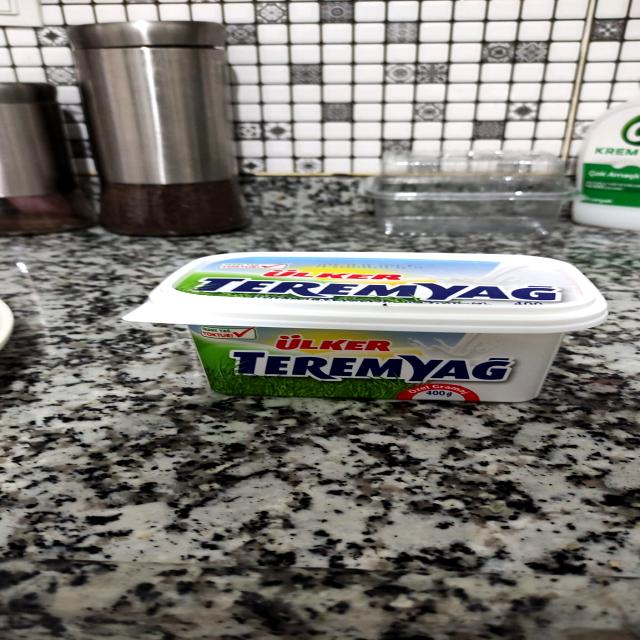margarine: (102, 227, 633, 418)
